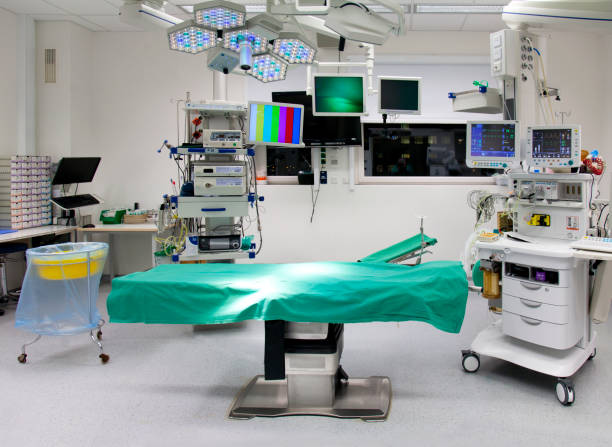bedside_monitor: (457, 115, 524, 170), (245, 100, 306, 149), (530, 120, 581, 167), (313, 74, 366, 116), (51, 154, 99, 188), (379, 76, 419, 113)
breathing_tube: (466, 187, 507, 299)
drawer: (503, 264, 586, 344)
handle: (520, 315, 542, 326), (519, 281, 541, 291), (520, 298, 542, 308)
keyboard: (52, 193, 101, 210)
operating_bed: (98, 259, 465, 418)
surgical_light: (166, 1, 316, 84), (324, 1, 395, 46)
ventilator: (463, 126, 597, 406), (164, 96, 264, 263)
waste_bin: (14, 239, 114, 371)
